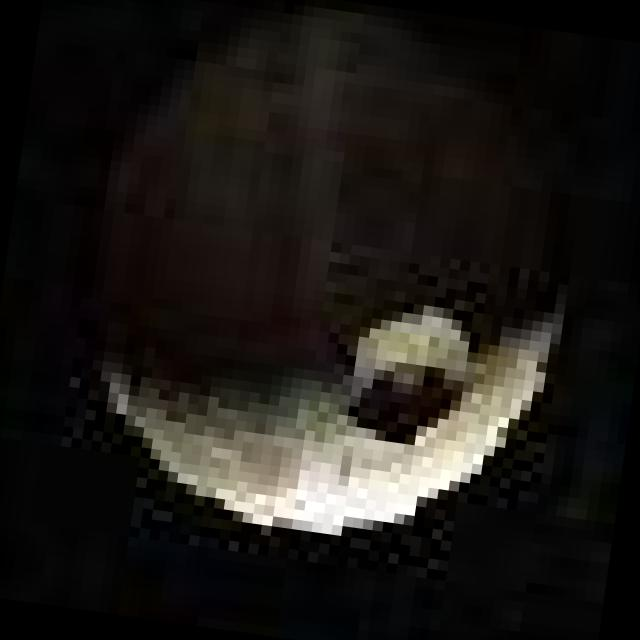Death Star: (35, 0, 600, 566)
